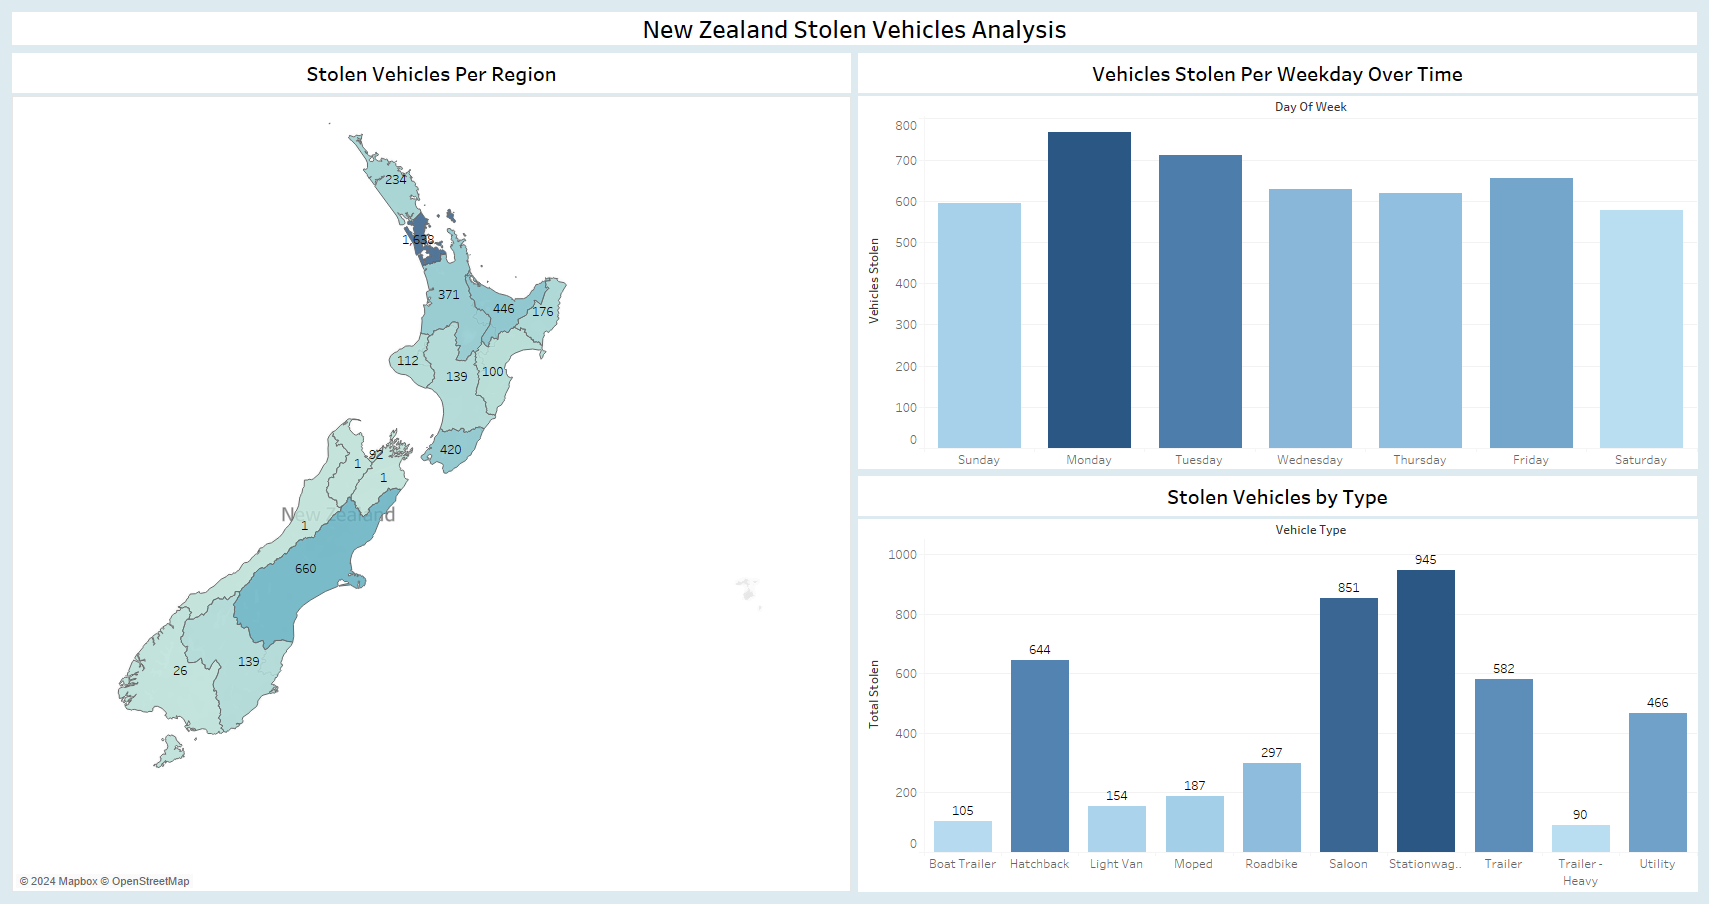

The page's visual inventory and layout, read from the dashboard file:
{"tool":"tableau","page":{"name":"New Zealand Stolen Vehicles Analysis","canvas":[1000,1000],"units":"permille","ordinal":0},"visuals":[{"type":"title","box":[4.7,8.8,990.6,45.4]},{"type":"worksheet","title":"Vehicles Stolen Per Province","mark":"Automatic","box":[4.7,54.2,495.3,937]},{"type":"worksheet","title":"Total Vehicles Stolen Per Day","mark":"Automatic","rows":["vehicles_stolen"],"cols":["day_of_week"],"box":[500,54.2,495.3,468.5]},{"type":"worksheet","title":"Vehicles Stolen Per Type","mark":"Automatic","rows":["Calculation_563794394811203584"],"cols":["vehicle_type"],"box":[500,522.7,495.3,468.5]}]}

Visuals, with their boxes on the dashboard's canvas, which has no fixed pixel size, in thousandths of its width and height (x1, y1, x2, y2). These are canvas units, not pixel positions in the 1709x904 screenshot, which may show the page scaled, cropped or inside an application window:
title: (left=5, top=9, right=995, bottom=54)
"Vehicles Stolen Per Province" worksheet: (left=5, top=54, right=500, bottom=991)
"Total Vehicles Stolen Per Day" worksheet: (left=500, top=54, right=995, bottom=523)
"Vehicles Stolen Per Type" worksheet: (left=500, top=523, right=995, bottom=991)
